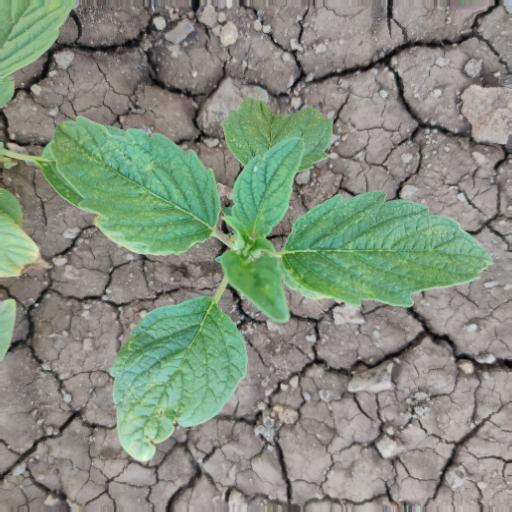crop: (31, 94, 492, 477)
